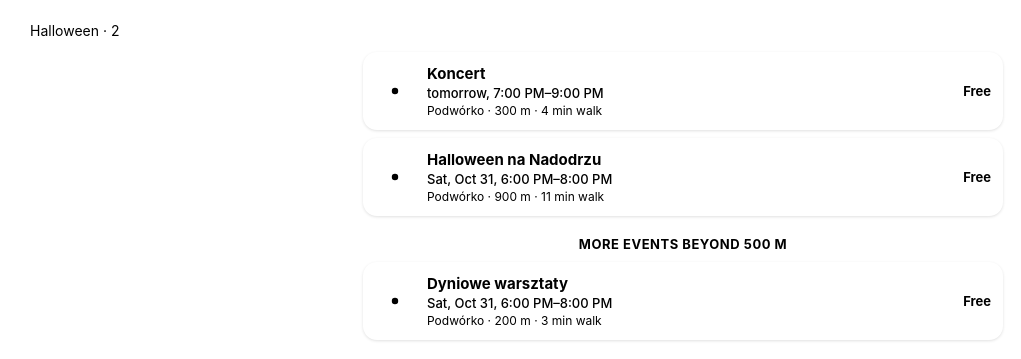
season collections (M12 §6.3) › offers a running season with its count, and opens it by time, then distance
The width and height of the screenshot is (1021, 359).
What coordinates should you click on to do the following:
click the button "Halloween · 2"
I would click on:
 (75, 30)
Its box is 16,12 -> 134,48.
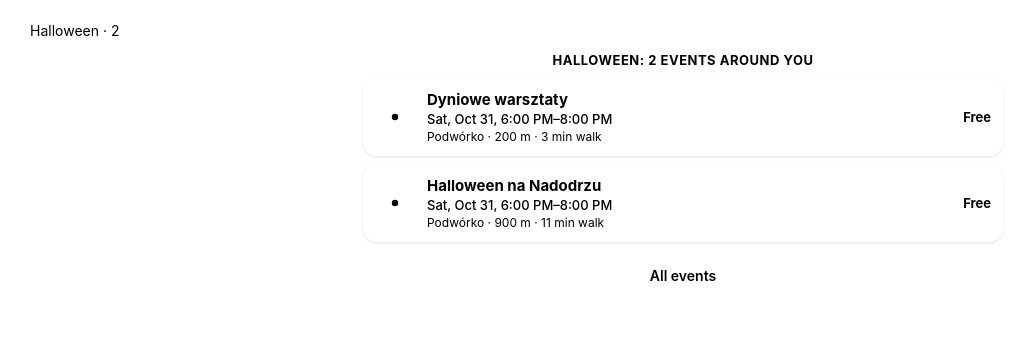
Check: the heading "Halloween: 2 events around you" is shown, box 552,52 -> 814,68
Check: the button "Koncert" is gone
What coordinates should you click on to do the following:
click the button "All events"
I would click on:
 (683, 275)
Its box is 636,254 -> 730,296.
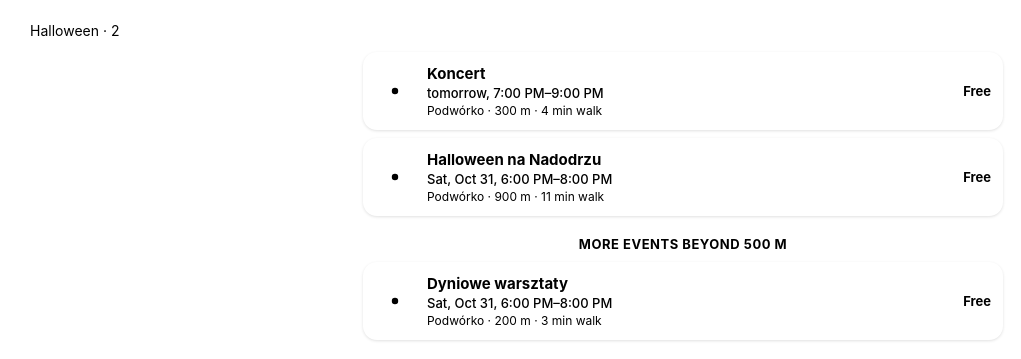
Check: the text "Koncert" is shown, box 427,64 -> 485,83
